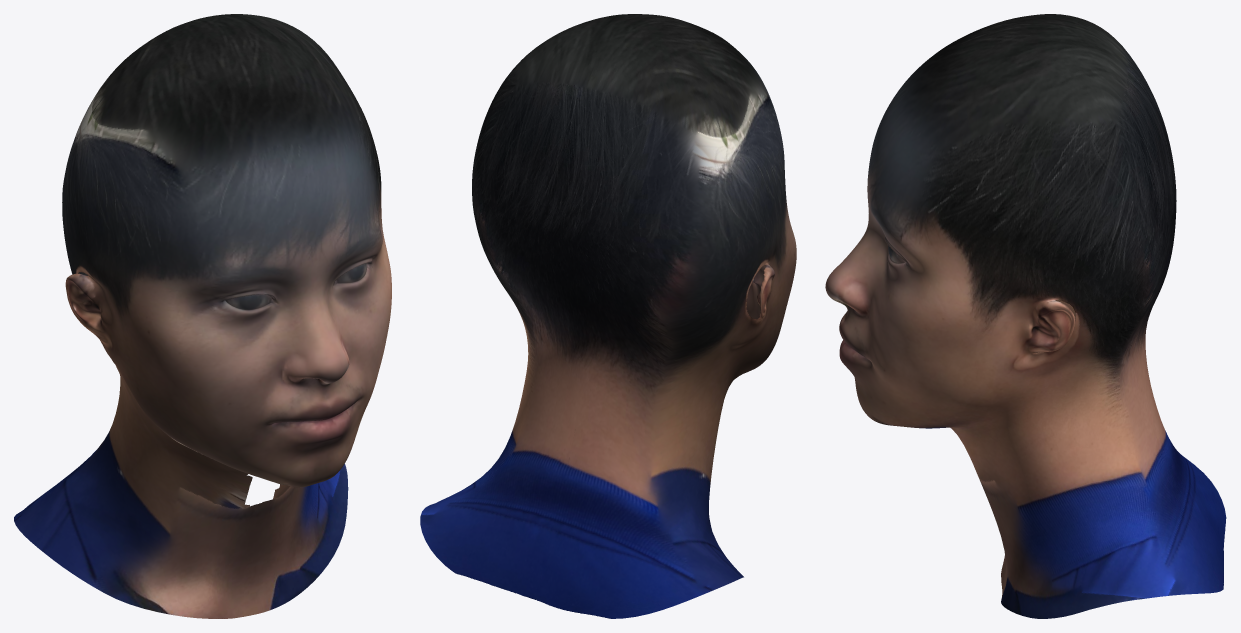
The model's file is dat_head.fbx.
The picture shows the model from 3 angles, left to right: view 1: azimuth 30°, elevation 25°; view 2: azimuth 150°, elevation 25°; view 3: azimuth 270°, elevation 25°; orthographic projection. The views are drawn at different scales.
Parts seen in each view (by area): view 1: FBHead; view 2: FBHead; view 3: FBHead.
Part boxes in pixels (box(x1,y1,x2,y2)): FBHead: box(14, 14, 391, 618); FBHead: box(420, 14, 796, 618); FBHead: box(825, 14, 1226, 618).
Size of the model in its own units: 164 by 284 by 183.
